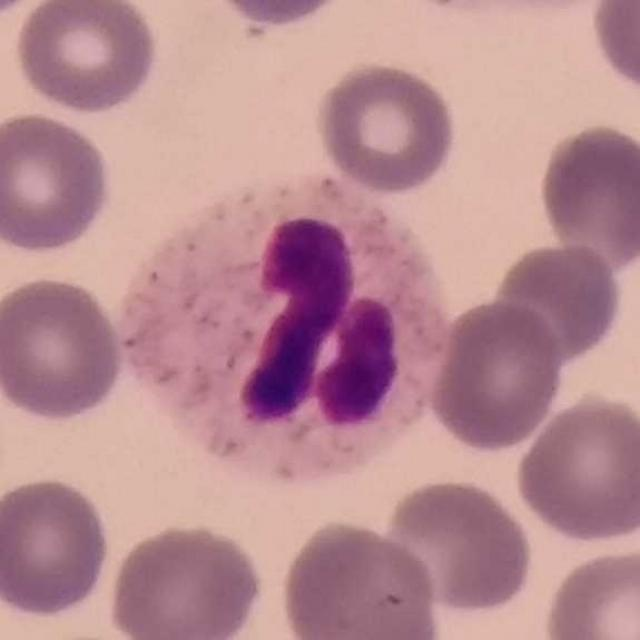Neutrophil: (111, 184, 455, 490)
RBC: (376, 474, 536, 618), (426, 296, 568, 454), (312, 57, 460, 197), (277, 516, 442, 640), (511, 390, 640, 548), (103, 517, 267, 640), (0, 272, 128, 424), (486, 238, 626, 368), (10, 0, 161, 117), (0, 108, 116, 257), (0, 473, 115, 621), (534, 119, 640, 272), (538, 542, 640, 640), (586, 0, 640, 99), (204, 0, 353, 30), (402, 0, 609, 20)
